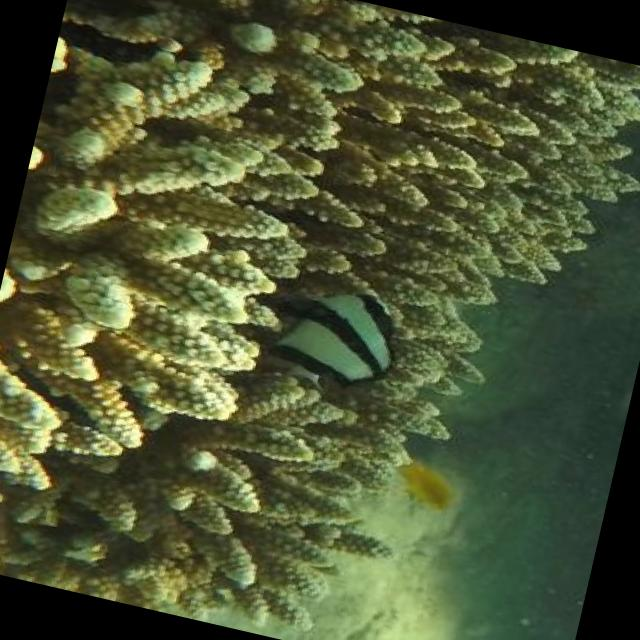ThreeStripedDamselfish: (257, 272, 414, 408)
